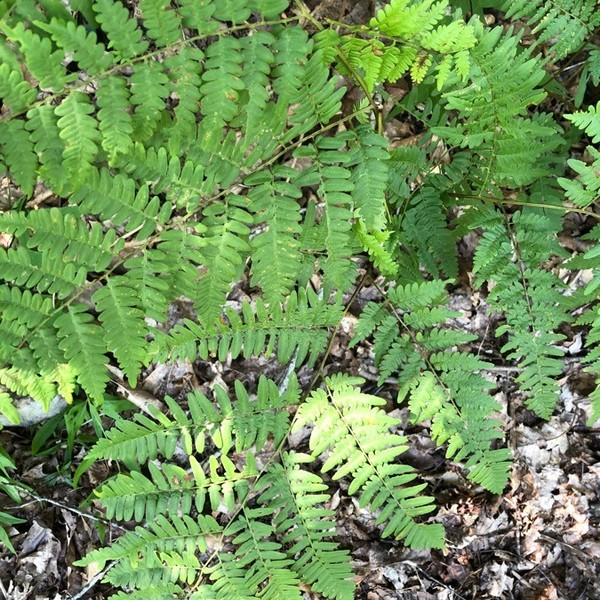obstacle: (102, 277, 464, 584), (29, 22, 341, 332)
